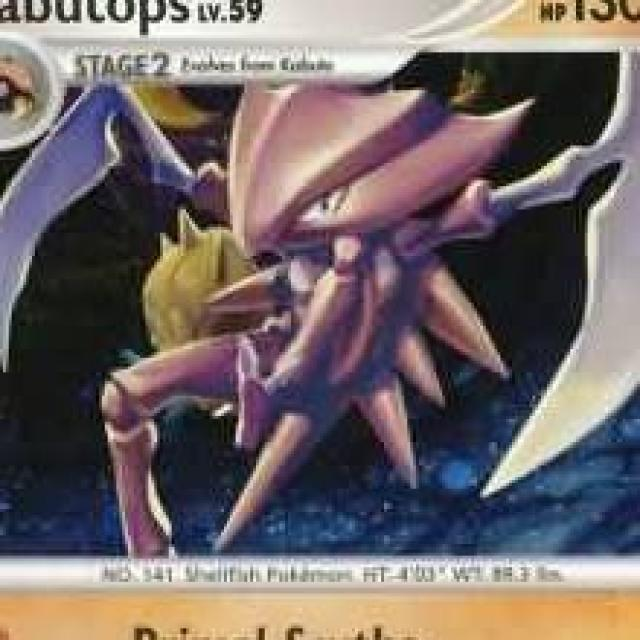Kabutops: (91, 80, 594, 452)
